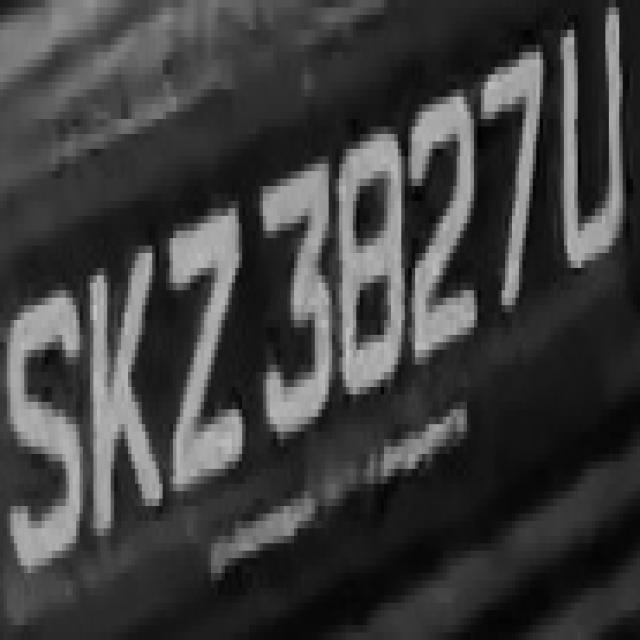2: (402, 67, 492, 365), (253, 134, 339, 432)
7: (474, 38, 547, 328)
8: (329, 112, 415, 409)
K: (80, 216, 166, 543)
S: (0, 253, 80, 588)
U: (561, 30, 626, 275)
Z: (159, 201, 249, 506)
